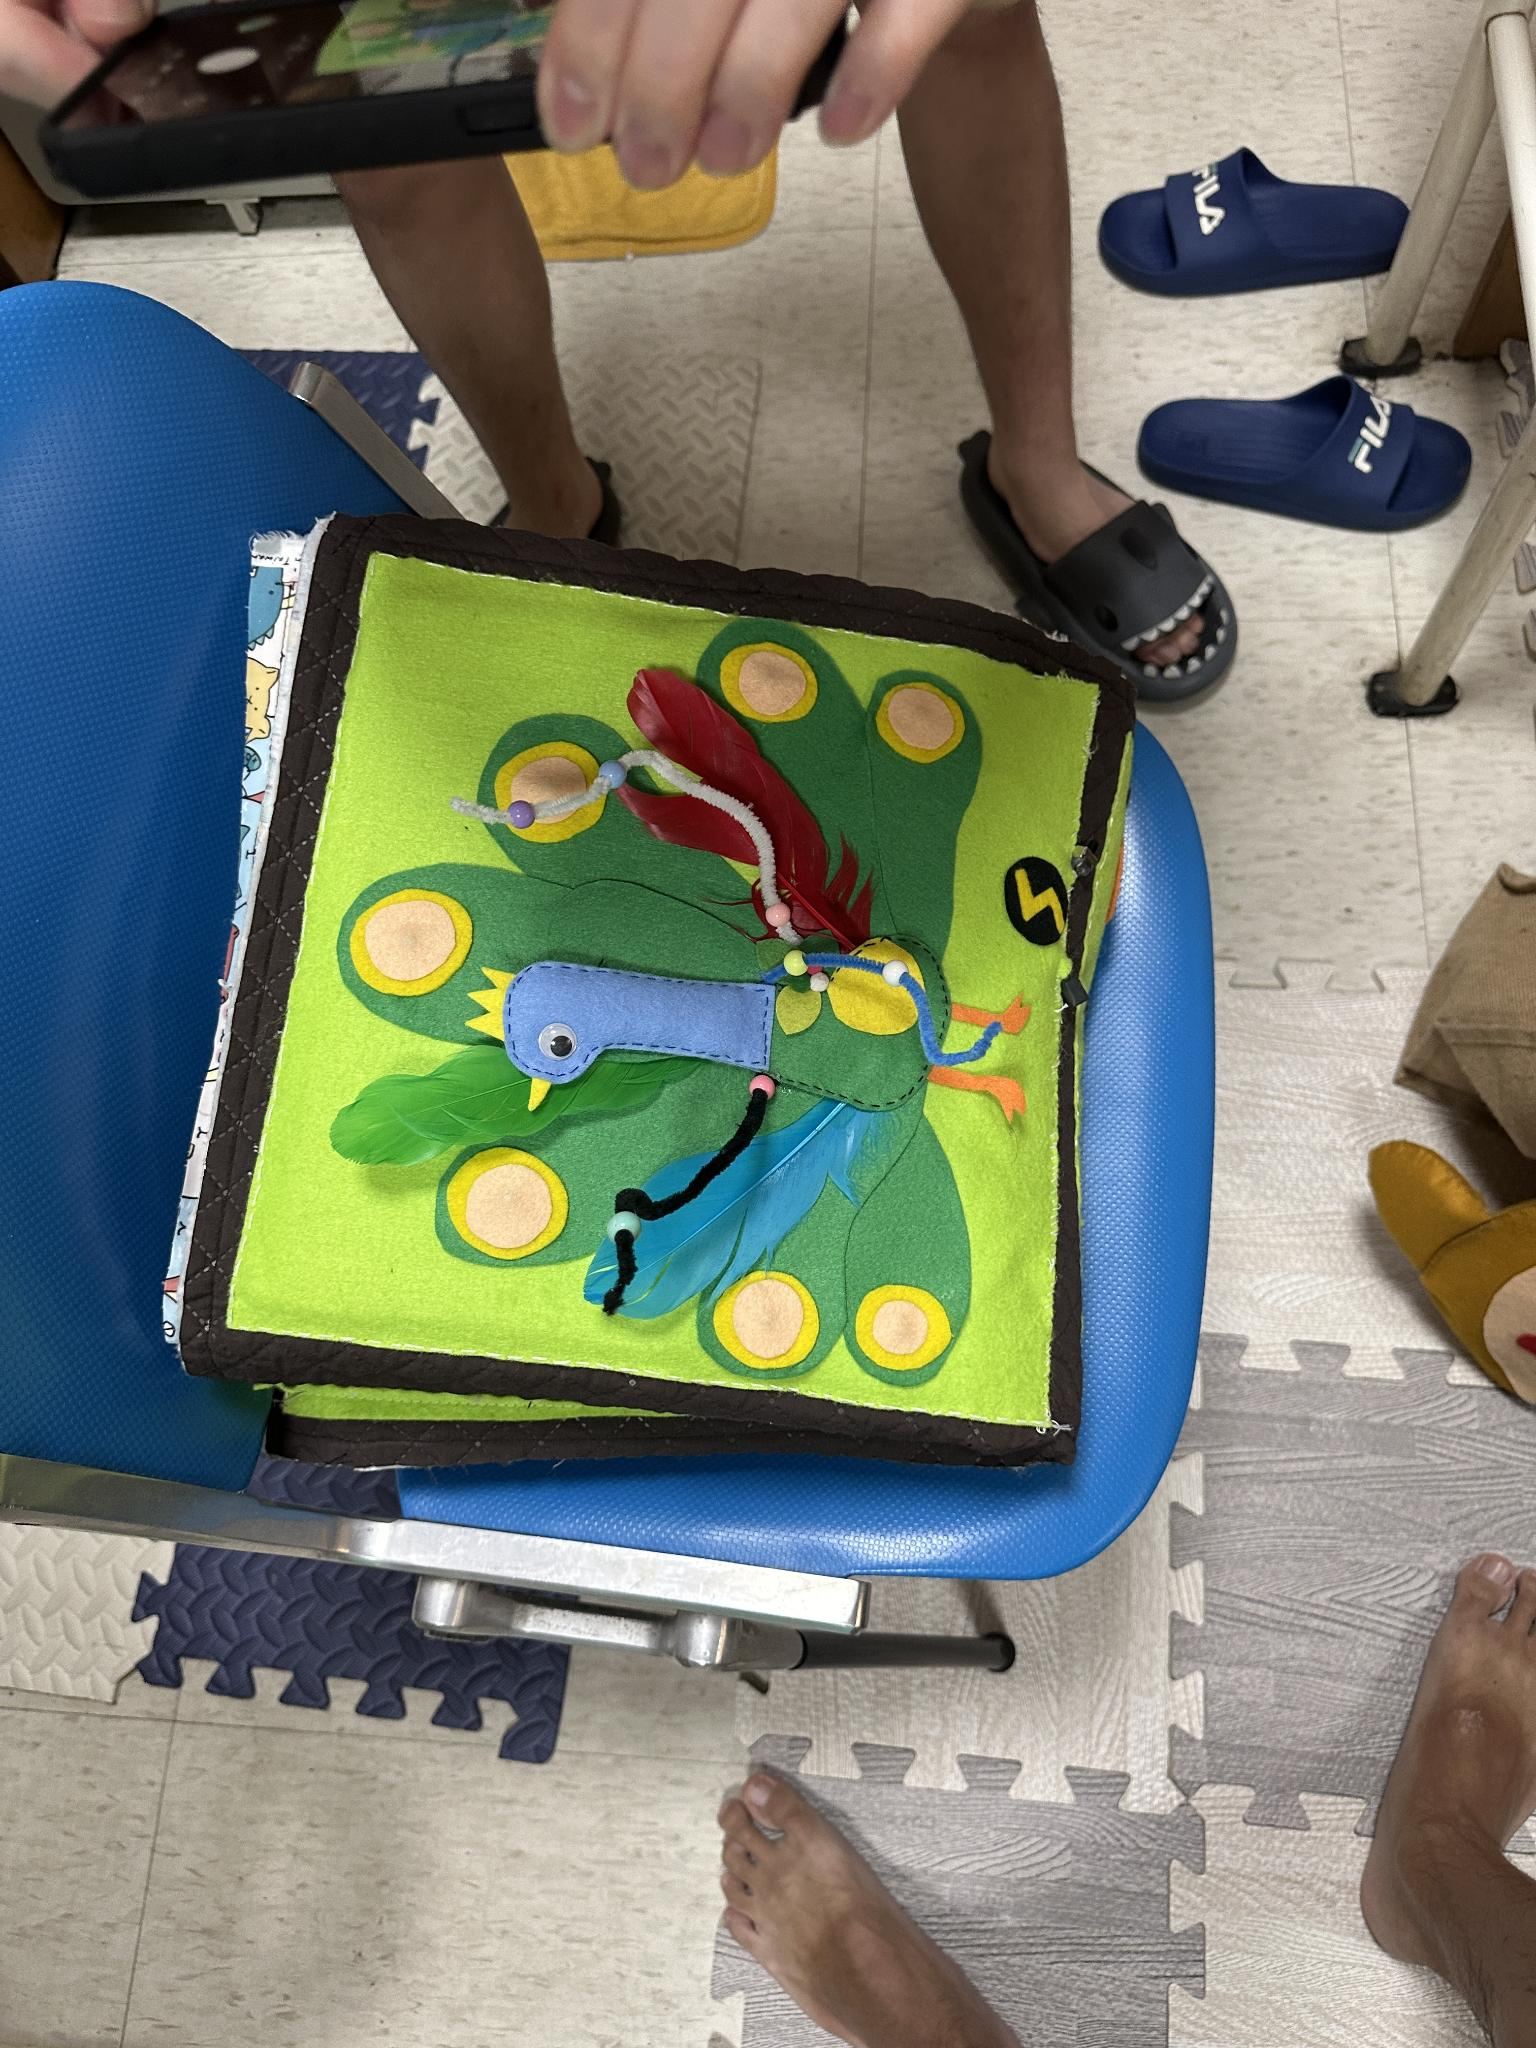bead: (742, 1058, 786, 1108), (499, 784, 536, 842), (773, 955, 829, 990), (608, 1208, 658, 1243), (592, 758, 631, 797), (881, 956, 918, 993), (766, 898, 799, 929)
